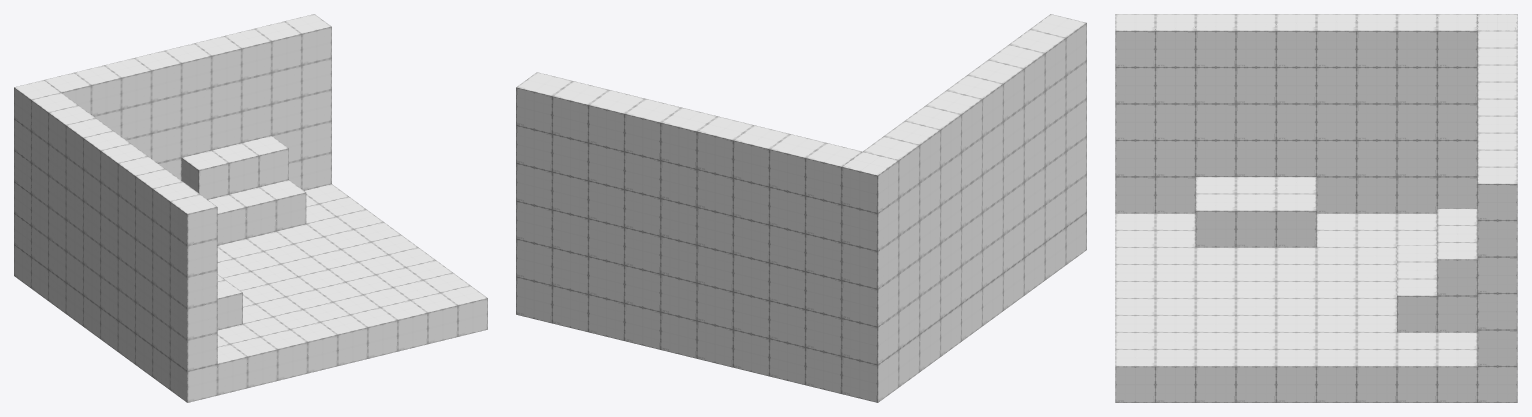
3 renders of one model, left to right at view 1: azimuth 30°, elevation 25°; view 2: azimuth 150°, elevation 25°; view 3: azimuth 270°, elevation 25°, orthographic. The views are drawn at different scales.
Visible parts, largest first — view 1: Cube (1), Cube, Cube (2), Cube (4), Cube (5), Cube (3); view 2: Cube (2), Cube, Cube (1); view 3: Cube, Cube (1), Cube (2), Cube (3), Cube (4), Cube (5).
Part boxes in pixels (x1=…): Cube (1): x1=14, y1=184, x2=487, y2=402; Cube: x1=14, y1=80, x2=217, y2=371; Cube (2): x1=14, y1=14, x2=331, y2=256; Cube (4): x1=181, y1=135, x2=288, y2=199; Cube (5): x1=208, y1=180, x2=306, y2=245; Cube (3): x1=217, y1=274, x2=242, y2=329; Cube (2): x1=516, y1=72, x2=896, y2=364; Cube: x1=841, y1=14, x2=1086, y2=364; Cube (1): x1=516, y1=212, x2=1086, y2=402; Cube: x1=1115, y1=14, x2=1517, y2=213; Cube (1): x1=1115, y1=213, x2=1517, y2=402; Cube (2): x1=1477, y1=14, x2=1517, y2=366; Cube (3): x1=1195, y1=177, x2=1316, y2=247; Cube (4): x1=1437, y1=208, x2=1477, y2=332; Cube (5): x1=1397, y1=245, x2=1437, y2=332.
Bounding box in the file's own units: 1000 × 600 × 1000.
Materials: 1 (1 with a texture image).
